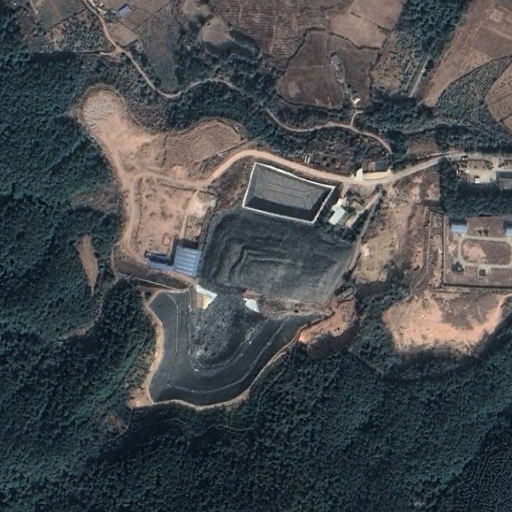lf: (148, 213, 358, 410)
